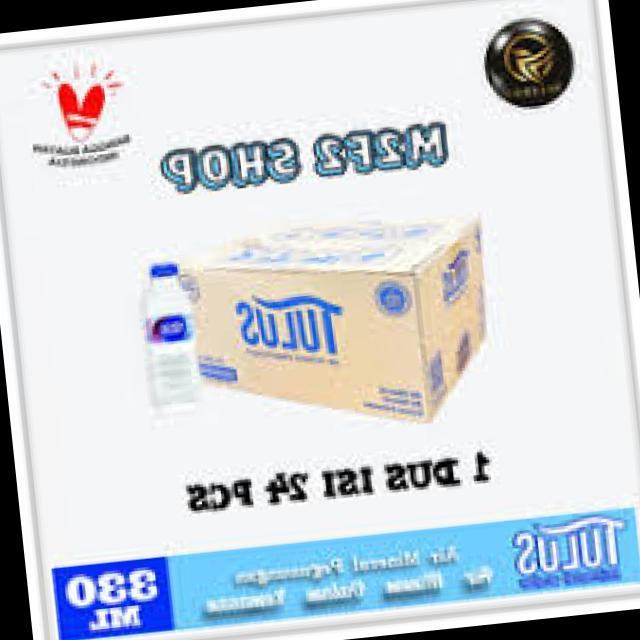good: (112, 255, 216, 410)
